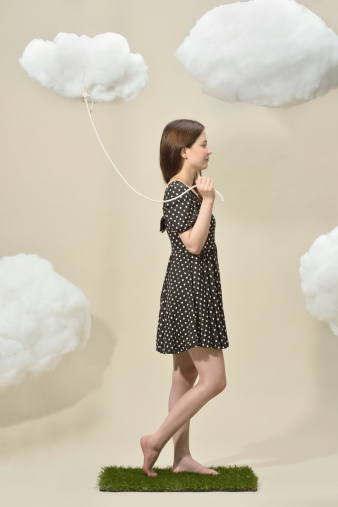em pe: (119, 106, 252, 477)
